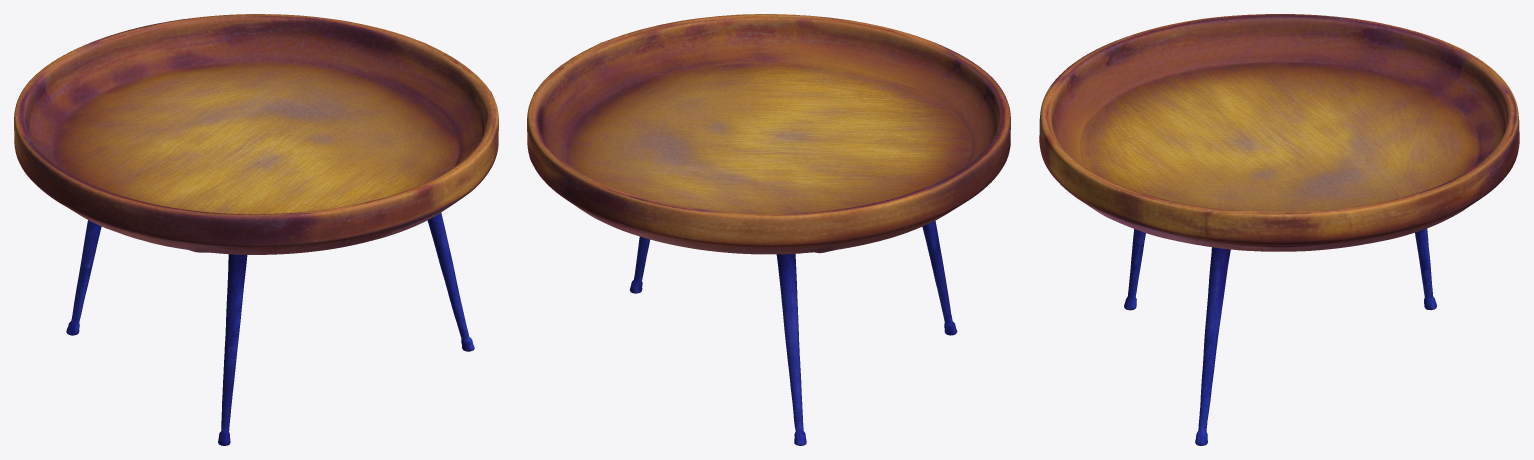
File: product-bohemian-annabel-round-mango-wood-coffee-table-03.glb
3 renders of one model, left to right at view 1: azimuth 30°, elevation 25°; view 2: azimuth 150°, elevation 25°; view 3: azimuth 270°, elevation 25°, orthographic.
Parts seen in each view (by area): view 1: geometry_0; view 2: geometry_0; view 3: geometry_0.
Boxes of the visible parts, left/top/right/bottom form: geometry_0: left=14, top=14, right=498, bottom=445; geometry_0: left=527, top=14, right=1010, bottom=445; geometry_0: left=1039, top=14, right=1519, bottom=445.
Bounding box in the file's own units: 1.97 × 1.12 × 1.97.
Materials: 1 (1 with a texture image).
